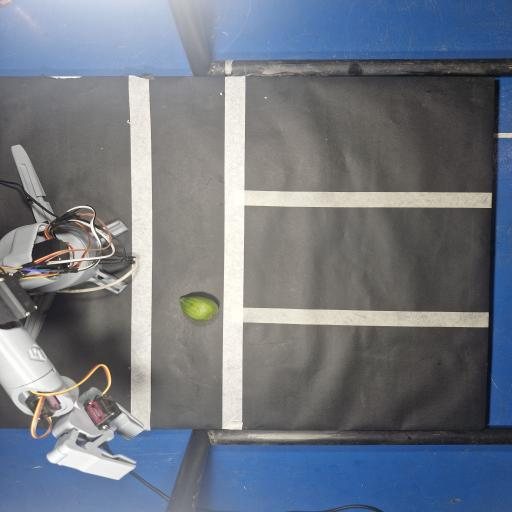higo: (180, 296, 218, 321)
